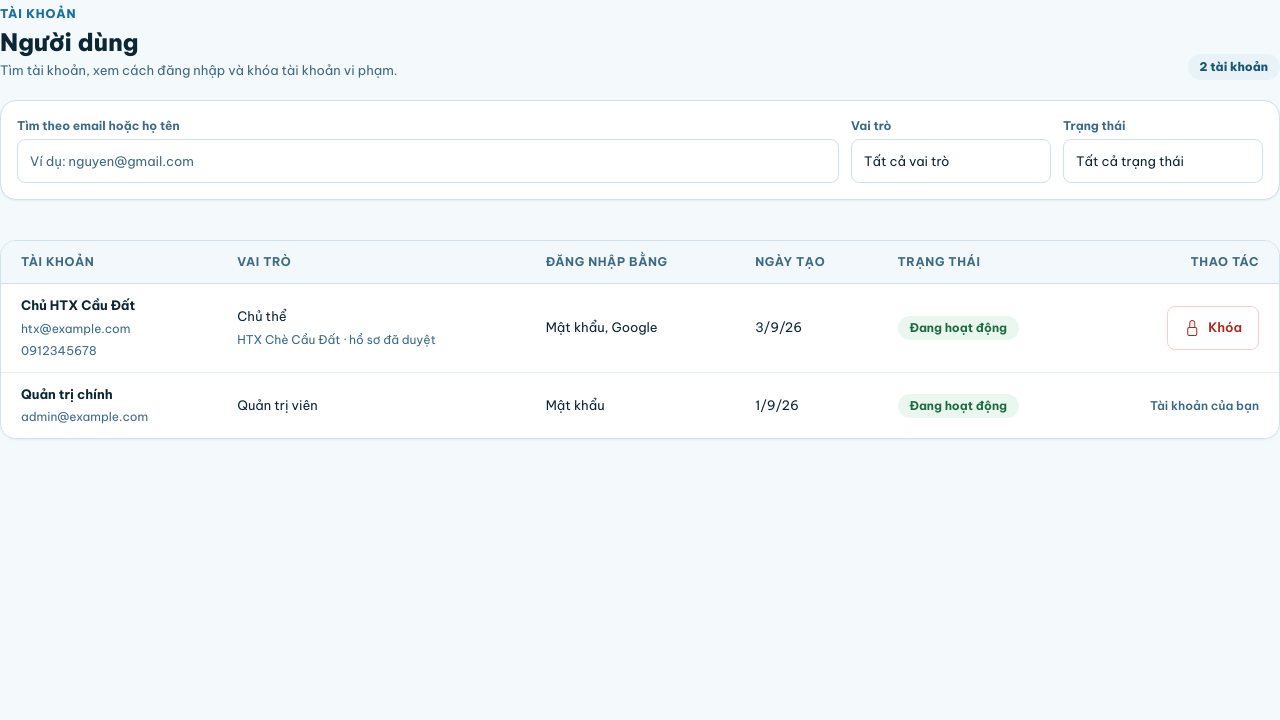
AdminUsersView › báo lỗi trong hộp thoại khi máy chủ từ chối
Click the button with aria-label "Khóa tài khoản htx@example.com": x=1213, y=328 [1167,306,1259,350]
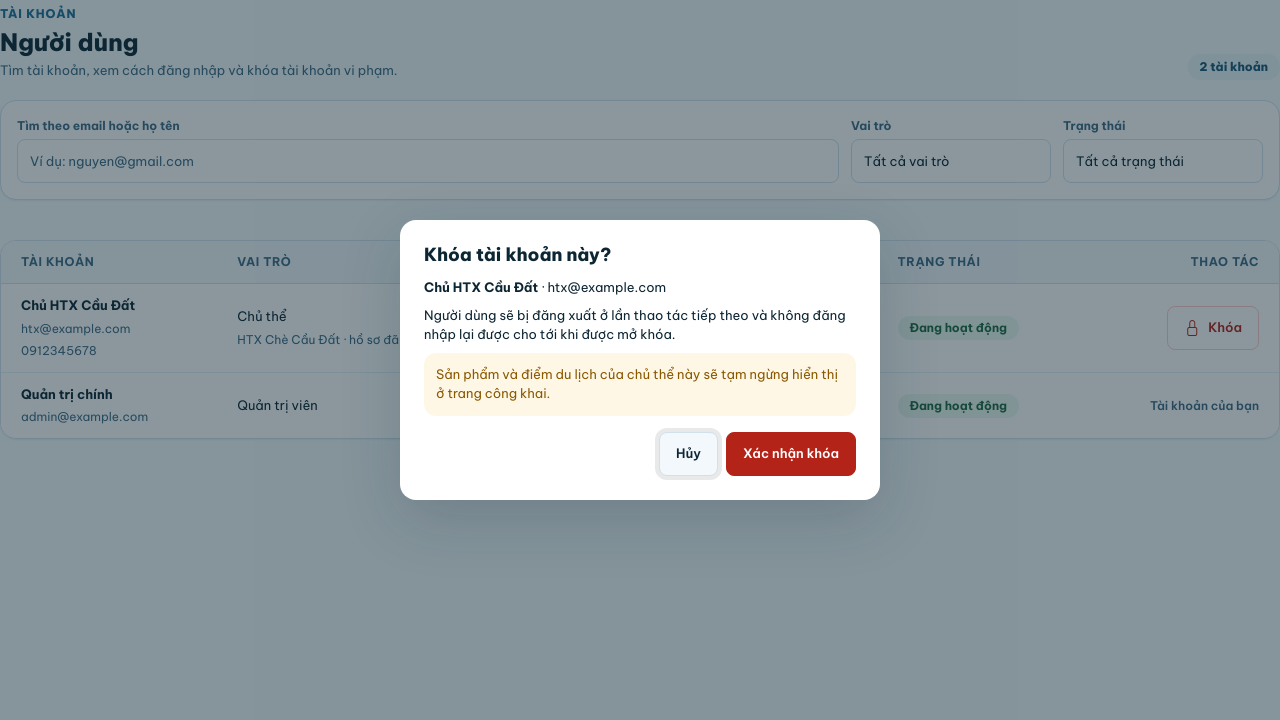
Click the button "Xác nhận khóa": x=791, y=454 [726,432,856,476]
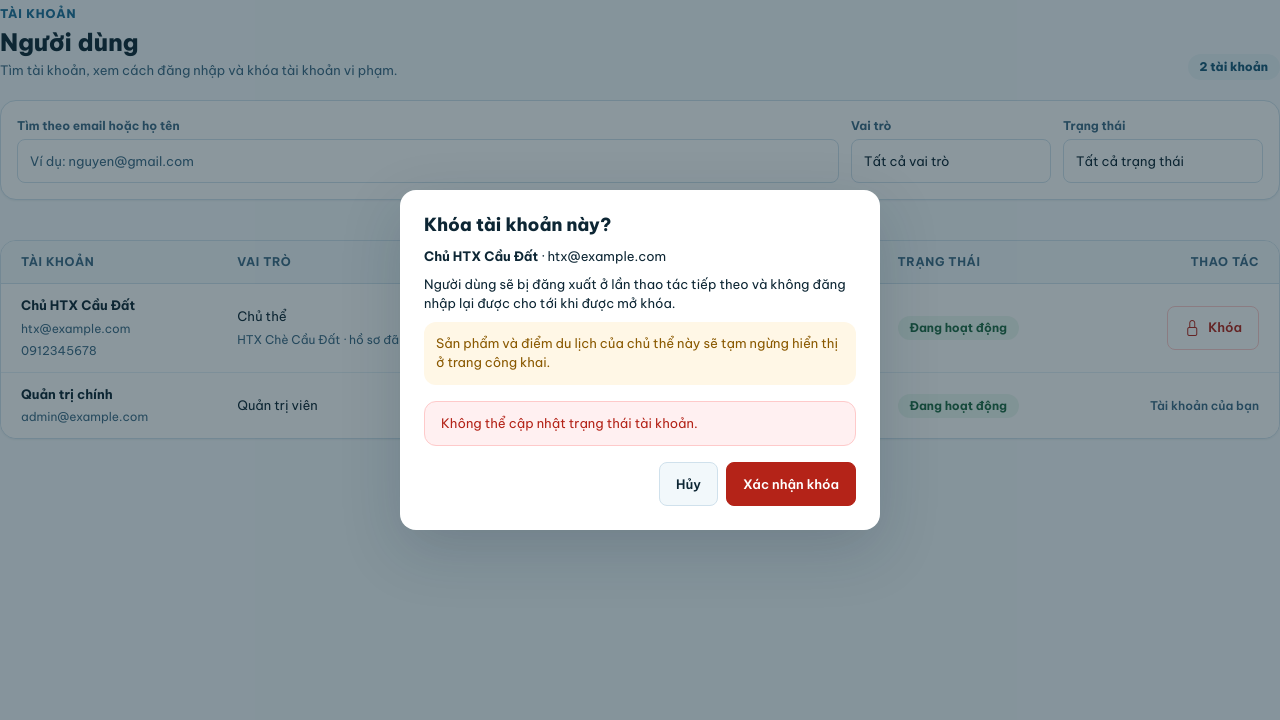
Result: the message "Không thể cập nhật trạng thái tài khoản." is shown at [424,401,856,446]
